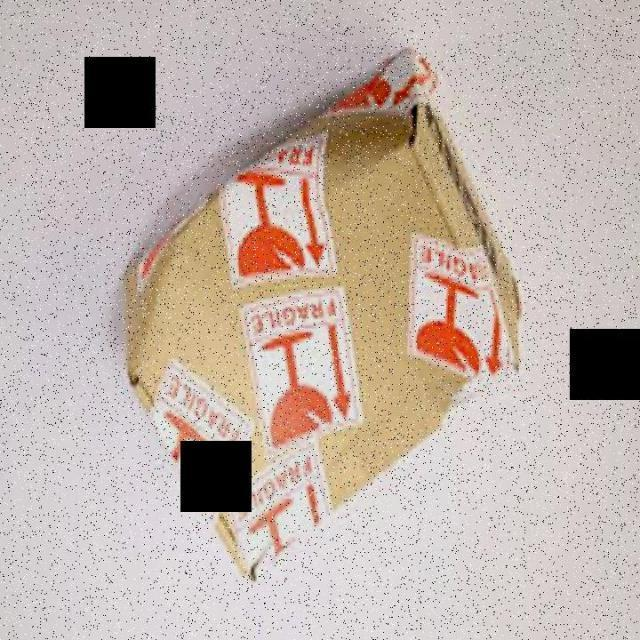box: (115, 52, 534, 585)
